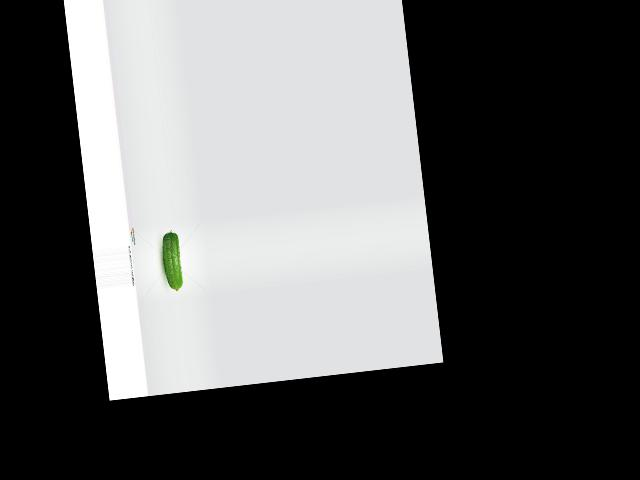cucumber: (160, 229, 184, 292)
